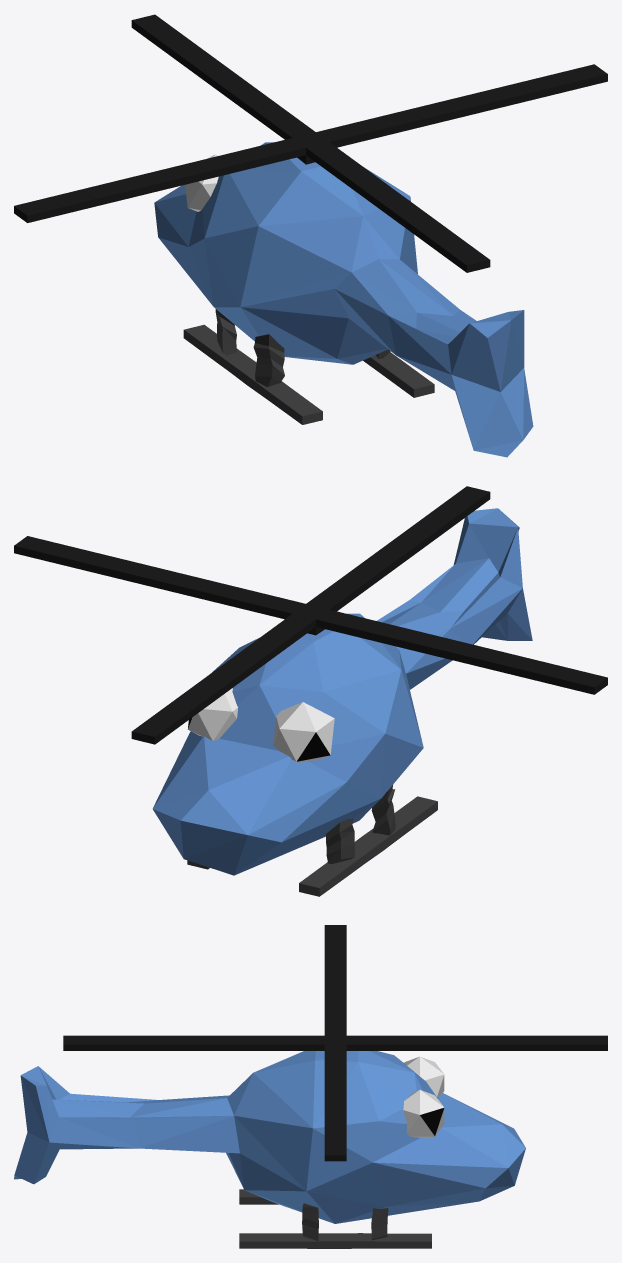
Rendered from LowPoly_Helicopter.fbx.
3 views of the same model, one above another, from view 1: azimuth 30°, elevation 25°; view 2: azimuth 150°, elevation 25°; view 3: azimuth 270°, elevation 25° (orthographic). The views are drawn at different scales.
Visible parts, largest first — view 1: Helicopter Body, Helicopter Wings; view 2: Helicopter Body, Helicopter Wings; view 3: Helicopter Body, Helicopter Wings.
Boxes of the visible parts, x1,y1,x2,y2 form: Helicopter Body: (154,142,533,457); Helicopter Wings: (14,14,607,272); Helicopter Body: (152,508,532,896); Helicopter Wings: (14,486,607,744); Helicopter Body: (14,1051,525,1248); Helicopter Wings: (63,925,607,1161).
Size of the model in its own units: 625 by 232 by 682.
